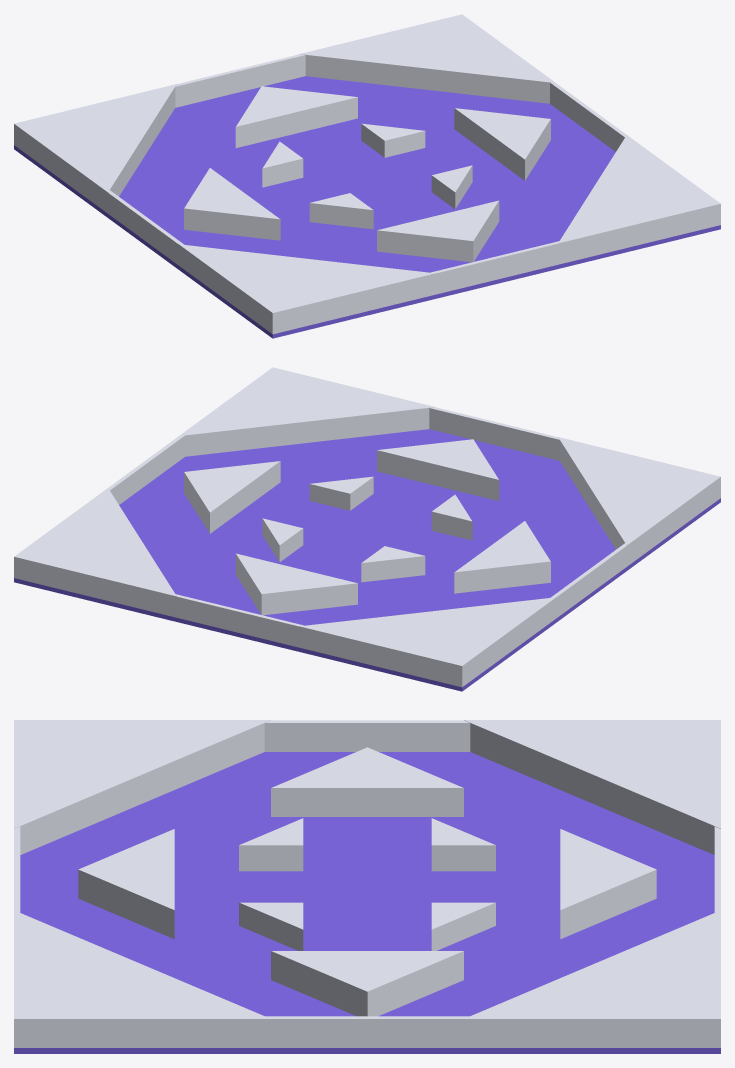
Rendered from block Arena.fbx.
3 views of the same model, one above another, from view 1: azimuth 30°, elevation 25°; view 2: azimuth 150°, elevation 25°; view 3: azimuth 270°, elevation 25° (orthographic). The views are drawn at different scales.
Visible parts, largest first — view 1: block (×5), wedge (×8), blockTriangle (×4); view 2: block (×5), wedge (×8), blockTriangle (×4); view 3: block (×5), wedge (×8), blockTriangle (×4).
Part boxes in pixels (x1,y1,x2,y2): block (×5): [14, 54, 720, 338]; wedge (×8): [14, 14, 720, 334]; blockTriangle (×4): [184, 86, 550, 262]; block (×5): [14, 407, 720, 691]; wedge (×8): [14, 367, 720, 687]; blockTriangle (×4): [184, 439, 550, 615]; block (×5): [14, 720, 720, 1053]; wedge (×8): [14, 720, 720, 1047]; blockTriangle (×4): [78, 747, 656, 1016].
Size of the model in its own units: 110 by 6 by 110.
